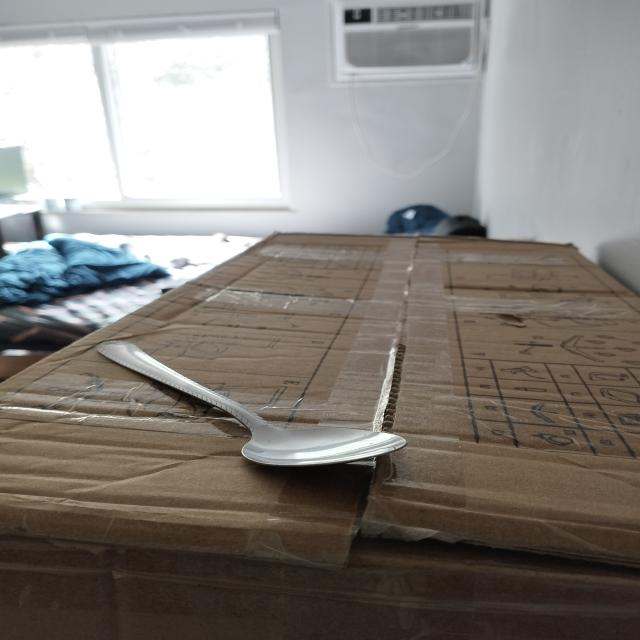Spoon: (88, 330, 424, 476)
